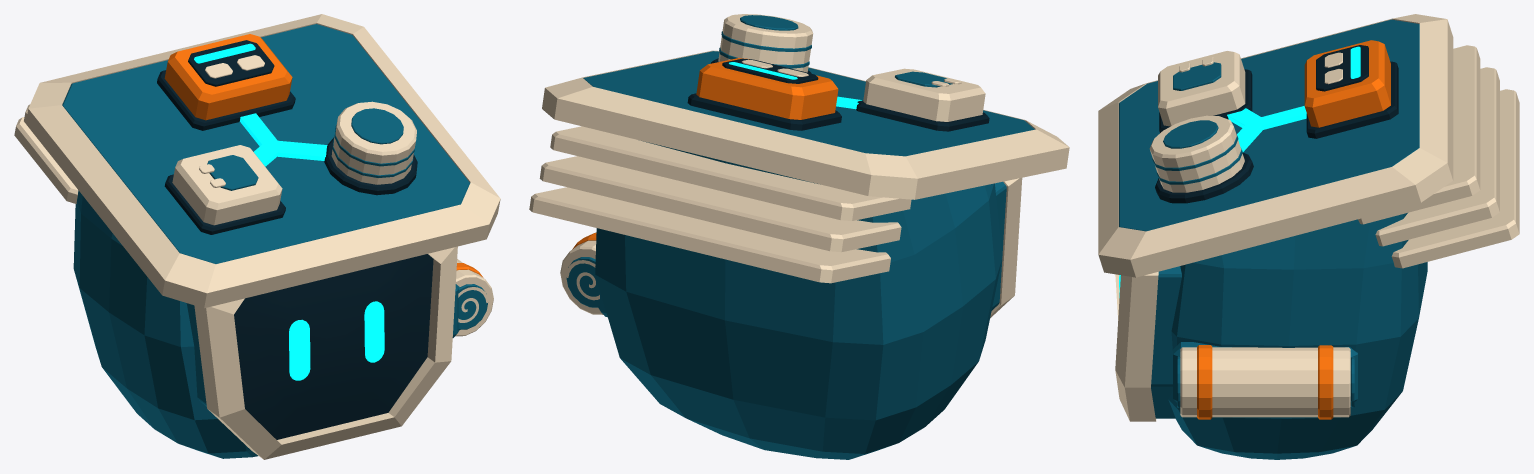
The model's file is copilot_architect_v01.glb.
The picture shows the model from 3 angles, left to right: view 1: azimuth 30°, elevation 25°; view 2: azimuth 150°, elevation 25°; view 3: azimuth 270°, elevation 25°; orthographic projection. The views are drawn at different scales.
Visible parts, largest first — view 1: pavilion_body, pavilion_eyes; view 2: pavilion_body; view 3: pavilion_body, pavilion_eyes.
Part boxes in pixels (x1,y1,x2,y2): pavilion_body: (14, 14, 500, 459); pavilion_eyes: (194, 43, 384, 380); pavilion_body: (529, 14, 1069, 459); pavilion_body: (1098, 14, 1519, 459); pavilion_eyes: (1119, 46, 1360, 297).
Bounding box in the file's own units: 2.95 × 2.73 × 2.9.
2 materials, 2 textured.
